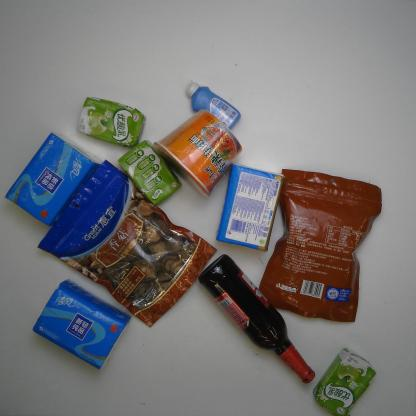Alcohol: (196, 252, 317, 385)
Dried Food: (36, 158, 218, 329), (259, 167, 382, 324)
Instant Noodles: (152, 108, 244, 200)
Milk: (312, 345, 377, 416), (116, 138, 182, 207), (76, 96, 147, 150)
Personal Hygiene: (185, 78, 242, 130)
Tissue: (3, 130, 104, 228), (31, 278, 133, 373), (214, 161, 286, 255)
